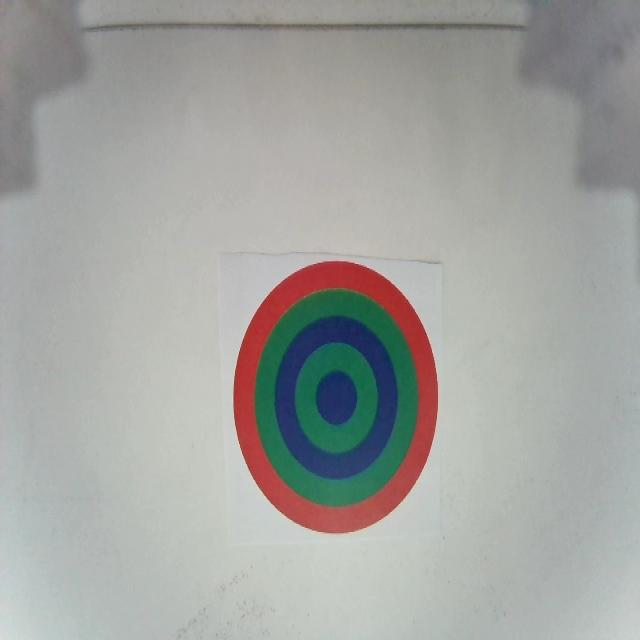cogn: (234, 260, 436, 532)
